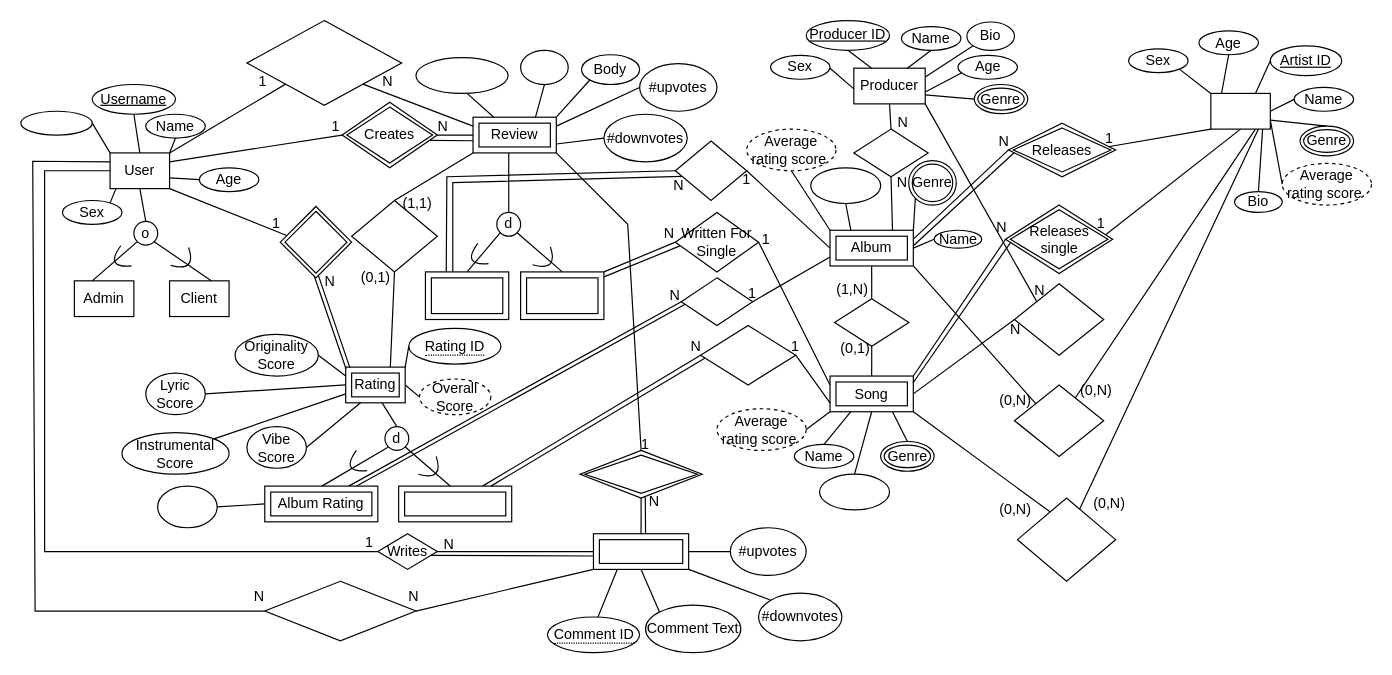
This 1392x675 diagram has some shape labels left out. Here are the shapes that lost their labels. From the top down, the box of each, then its label:
(246, 19, 402, 105): gives upvote/downvote
(415, 57, 508, 93): Review ID
(519, 49, 568, 85): Title
(20, 110, 92, 135): Password
(1210, 92, 1270, 129): Artist
(674, 140, 747, 201): Written For
(853, 128, 928, 177): Produces
(810, 167, 881, 203): Album ID
(279, 205, 352, 278): Gives
(350, 199, 437, 272): Includes
(424, 271, 509, 320): Album Review
(519, 271, 604, 320): Song Review
(680, 277, 753, 325): Given For
(833, 298, 909, 346): Contains
(1013, 283, 1104, 355): Produces Single
(699, 324, 796, 385): Given For Single
(1013, 384, 1104, 456): Produces Their
(579, 449, 702, 498): Consists Of
(818, 473, 890, 510): Song ID
(156, 485, 217, 528): Album Flow
(397, 485, 512, 522): Song Rating
(592, 533, 689, 569): Comment
(1016, 497, 1116, 581): Produces Their Single
(264, 580, 416, 641): upvotes/downvotes
